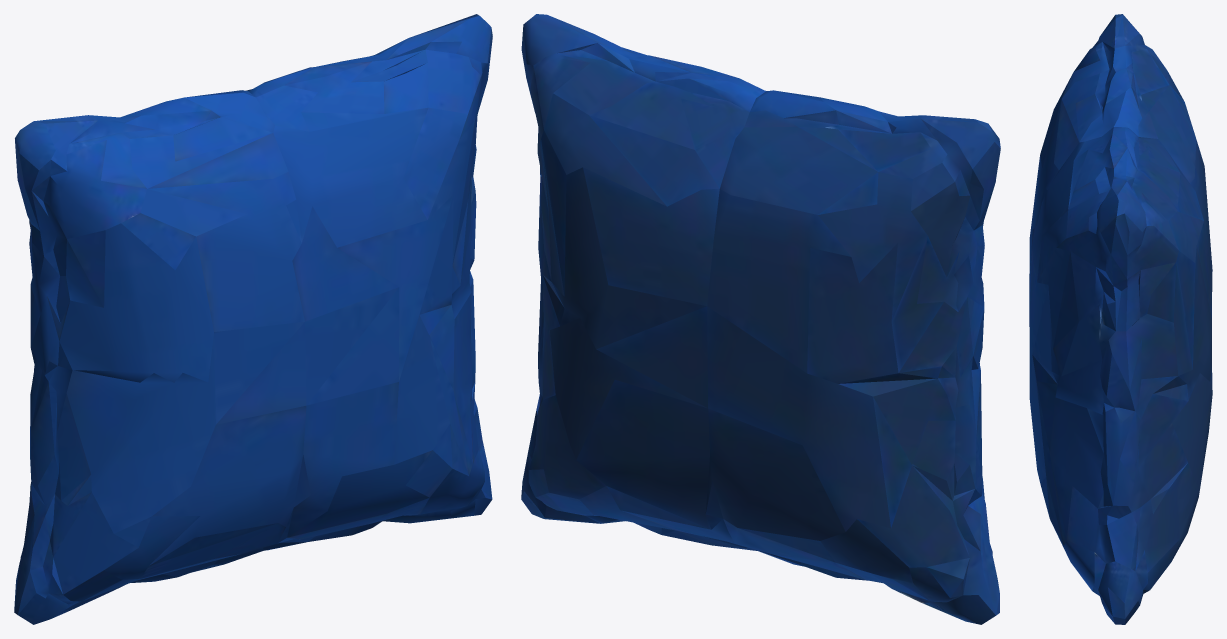
Rendered from bag.glb.
The picture shows the model from 3 angles, left to right: view 1: azimuth 30°, elevation 25°; view 2: azimuth 150°, elevation 25°; view 3: azimuth 270°, elevation 25°; orthographic projection. The views are drawn at different scales.
Bounding box in the file's own units: 1.88 × 1.89 × 0.7376.
Materials: 1 (1 with a texture image).
